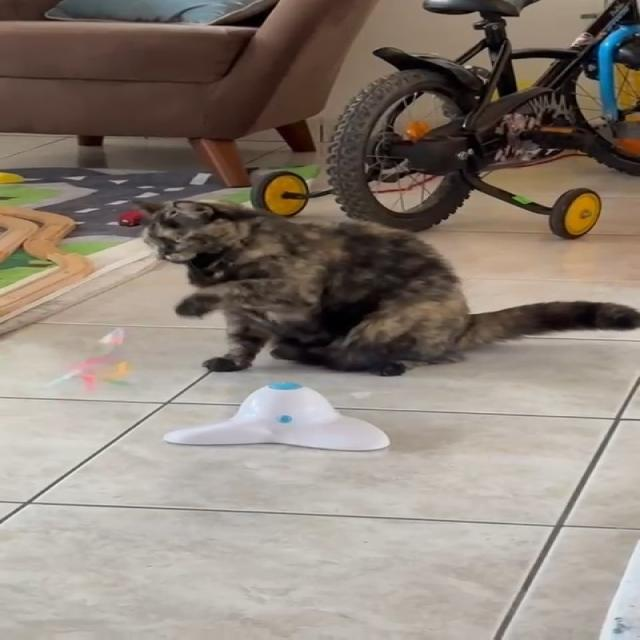authorized: (132, 197, 639, 377)
